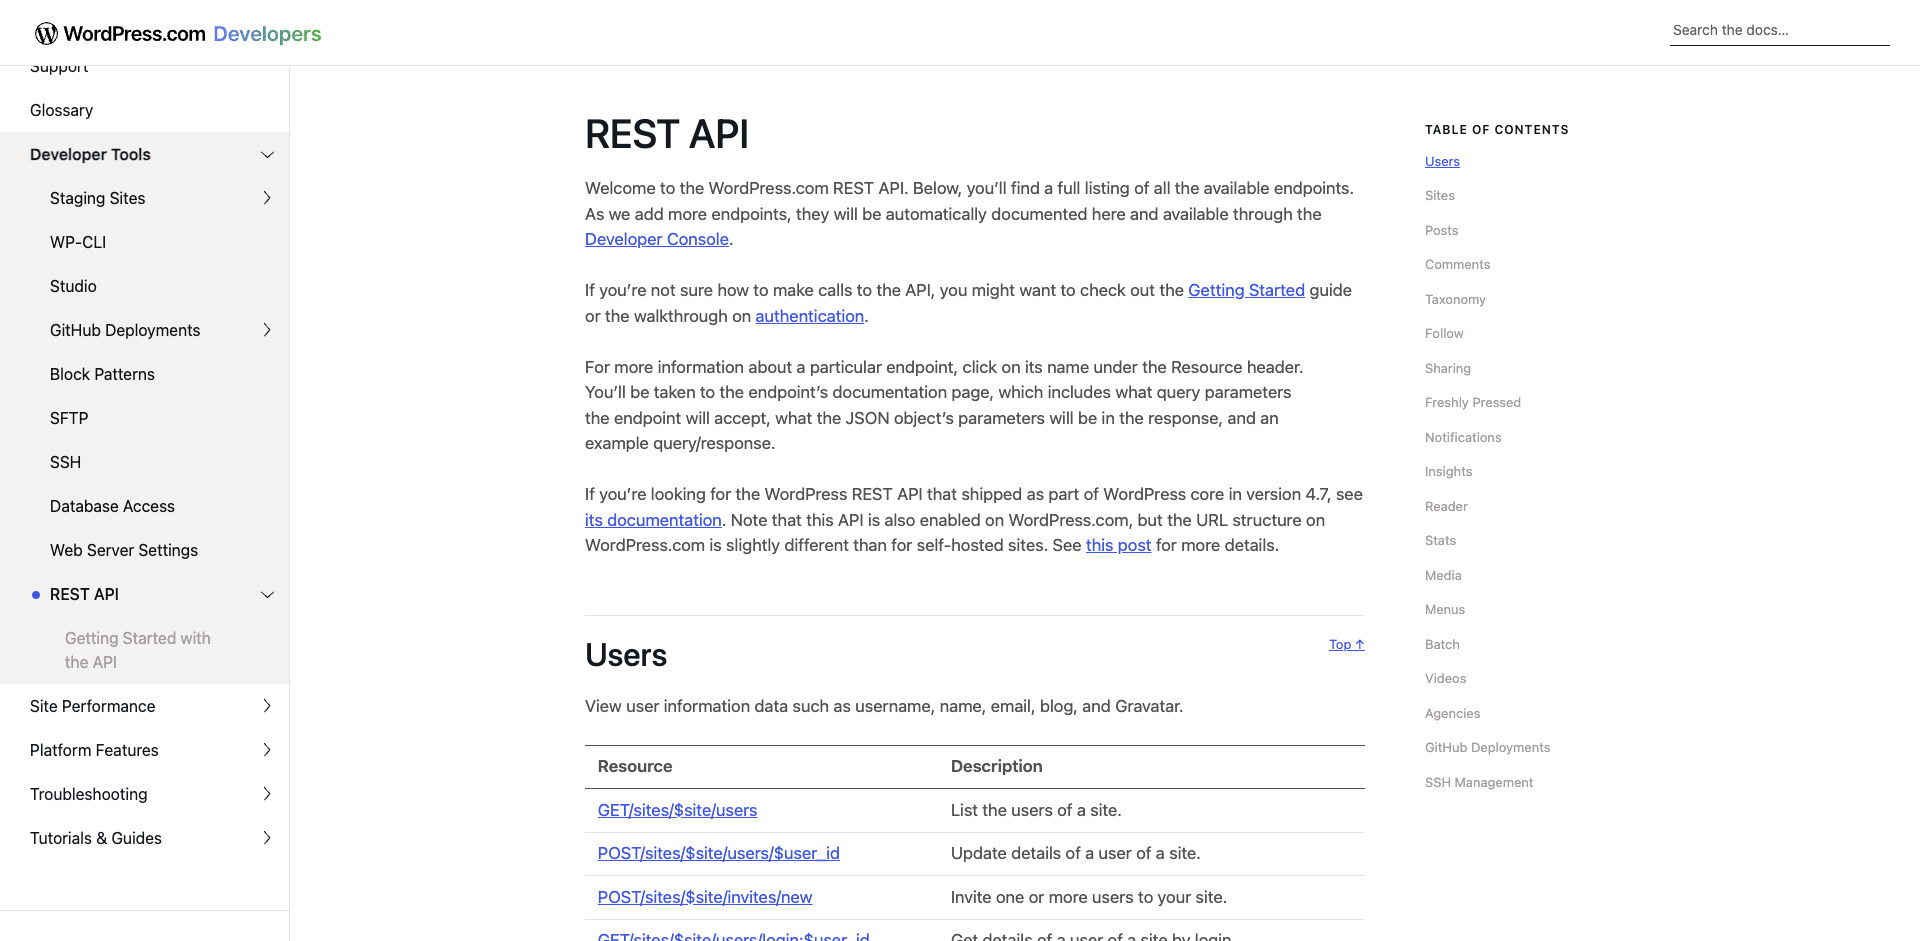button: (1768, 48, 1827, 109), (245, 0, 289, 44), (245, 132, 289, 176), (245, 176, 289, 221), (245, 308, 289, 352), (245, 572, 289, 616), (245, 684, 289, 728), (245, 728, 289, 772), (245, 772, 289, 816), (245, 816, 289, 860), (1810, 709, 1822, 849), (1859, 15, 1891, 47), (1600, 126, 1669, 141), (1675, 126, 1723, 141), (1729, 126, 1771, 141), (93, 47, 93, 48)
input: (153, 51, 1767, 104), (1670, 15, 1891, 47)
label: (93, 48, 1767, 108), (1669, 13, 1670, 15)
link: (15, 616, 289, 684), (0, 0, 289, 44), (0, 44, 289, 88), (0, 88, 289, 132), (0, 132, 289, 176), (0, 176, 289, 221), (0, 263, 289, 308), (0, 308, 289, 352), (0, 352, 289, 396), (0, 396, 289, 440), (0, 440, 289, 484), (0, 484, 289, 528), (0, 528, 289, 572), (0, 572, 289, 616), (0, 684, 289, 728), (0, 728, 289, 772), (0, 772, 289, 816), (0, 816, 289, 860), (0, 221, 289, 263), (29, 15, 322, 51), (1425, 350, 1625, 386), (1425, 557, 1625, 593), (1425, 765, 1625, 800), (871, 854, 1049, 893), (1425, 145, 1625, 179), (1425, 179, 1625, 213), (1425, 213, 1625, 248), (1425, 248, 1625, 282), (1425, 282, 1625, 316), (1425, 316, 1625, 350), (1425, 386, 1625, 420), (1425, 420, 1625, 455), (1425, 455, 1625, 489), (1425, 489, 1625, 523), (1425, 523, 1625, 557), (1425, 593, 1625, 627), (1425, 627, 1625, 662), (1425, 662, 1625, 696), (1425, 696, 1625, 730), (1425, 730, 1625, 765), (598, 843, 840, 863), (551, 635, 667, 673), (598, 887, 813, 907), (598, 800, 758, 820), (598, 930, 869, 941), (1315, 635, 1365, 693), (585, 229, 729, 249), (585, 510, 721, 529), (1188, 281, 1305, 300), (756, 305, 864, 326), (1086, 535, 1151, 555), (0, 0, 5, 5)
menu_item: (0, 132, 289, 684), (0, 572, 289, 684), (15, 616, 289, 684), (0, 0, 289, 44), (0, 44, 289, 88), (0, 88, 289, 132), (0, 176, 289, 221), (0, 263, 289, 308), (0, 308, 289, 352), (0, 352, 289, 396), (0, 396, 289, 440), (0, 440, 289, 484), (0, 484, 289, 528), (0, 528, 289, 572), (0, 684, 289, 728), (0, 728, 289, 772), (0, 772, 289, 816), (0, 816, 289, 860), (0, 221, 289, 263)
